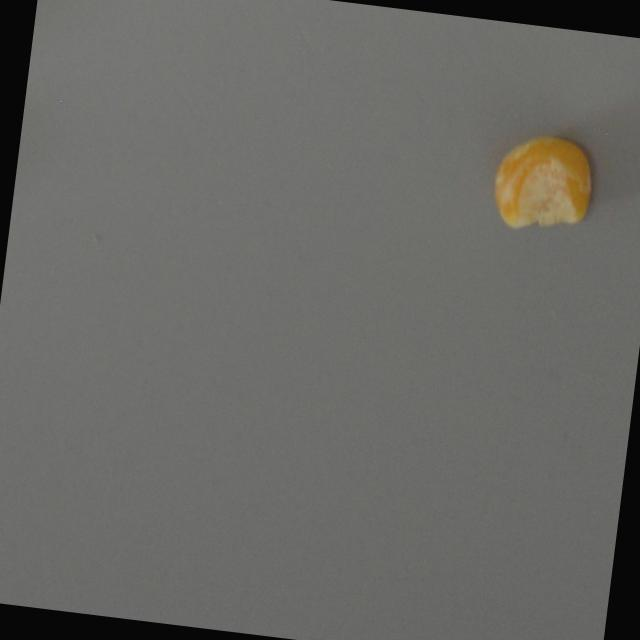pelicula: (486, 128, 598, 236)
